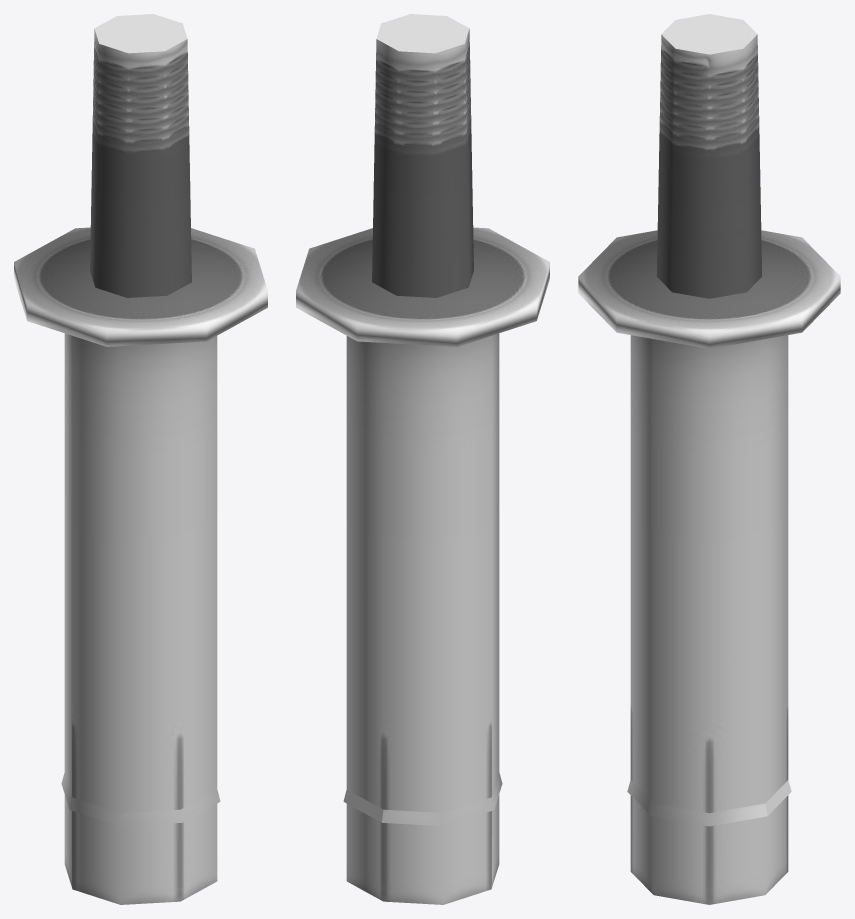
Rendered from pzls.FBX.
3 views of the same model, side by side, from view 1: azimuth 30°, elevation 25°; view 2: azimuth 150°, elevation 25°; view 3: azimuth 270°, elevation 25° (orthographic).
Visible parts, largest first — view 1: penzhangluoshuan:polySurface1; view 2: penzhangluoshuan:polySurface1; view 3: penzhangluoshuan:polySurface1.
Boxes of the visible parts, <box> form: penzhangluoshuan:polySurface1: <box>14,14,267,904</box>; penzhangluoshuan:polySurface1: <box>296,14,549,904</box>; penzhangluoshuan:polySurface1: <box>578,14,840,904</box>.
Bounding box in the file's own units: 2.69 × 9.48 × 2.69.
Materials: 1 (1 with a texture image).
